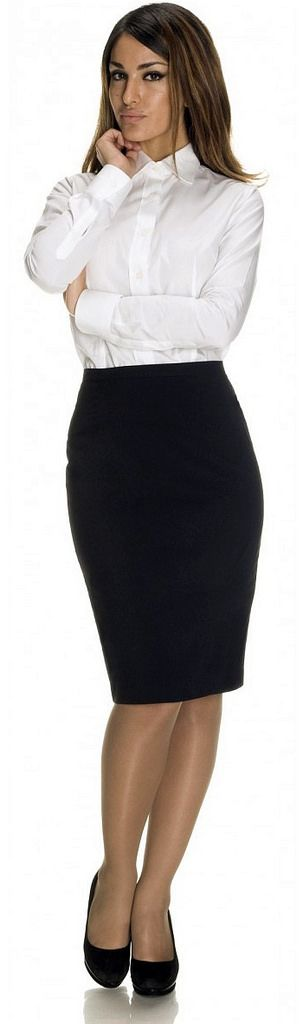F_shirt: (30, 141, 295, 368)
F_tailored skirt: (64, 364, 272, 712)
